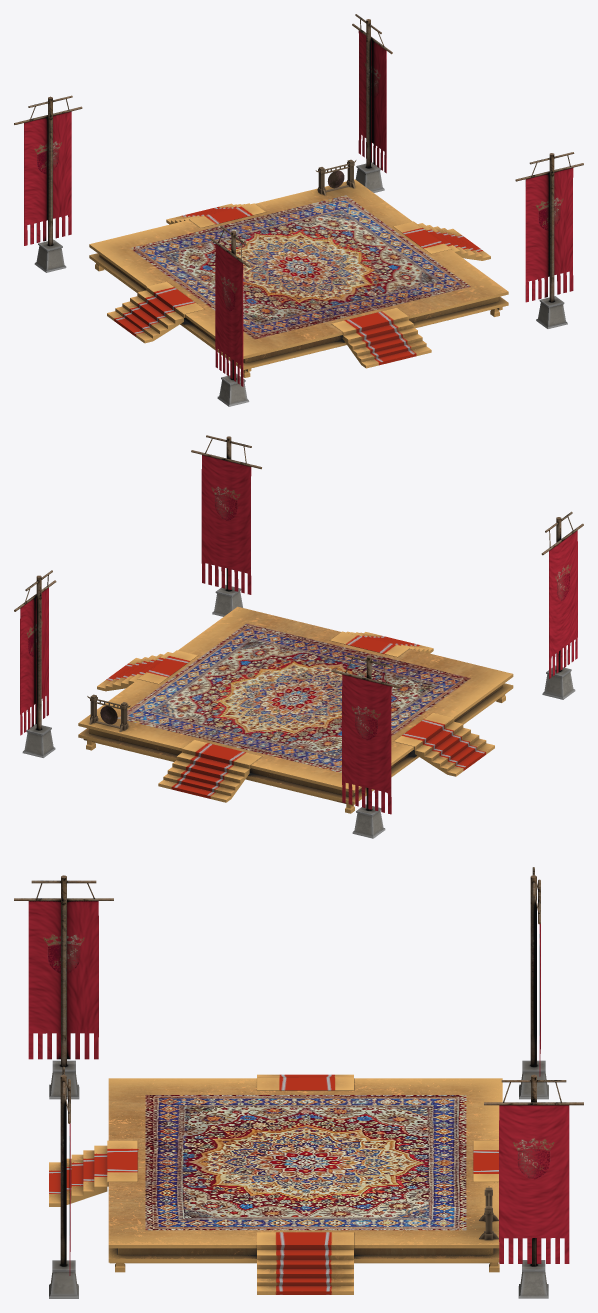
File: escenario.glb
The picture shows the model from 3 angles, top to bottom: view 1: azimuth 30°, elevation 25°; view 2: azimuth 150°, elevation 25°; view 3: azimuth 270°, elevation 25°; orthographic projection. The views are drawn at different scales.
Parts seen in each view (by area): view 1: pCube42, pPlane1 (×4), pCube14, pCube15, pCube40 (×4), pCylinder1 (×3); view 2: pCube42, pPlane1 (×4), pCube14, pCube15, pCube40 (×4), pCylinder1; view 3: pCube42, pPlane1 (×2), pCube14, pCube15, pCylinder1 (×3), pCube40 (×4), pCube7.
Boxes of the visible parts, x1,y1,x2,y2 form: pCube42: [89, 179, 508, 370]; pPlane1 (×4): [24, 30, 573, 386]; pCube14: [107, 221, 490, 343]; pCube15: [166, 203, 431, 368]; pCube40 (×4): [34, 162, 567, 406]; pCylinder1 (×3): [48, 19, 554, 302]; pCube42: [78, 606, 513, 804]; pPlane1 (×4): [20, 455, 577, 814]; pCube14: [97, 650, 494, 776]; pCube15: [158, 631, 433, 802]; pCube40 (×4): [22, 584, 575, 838]; pCylinder1: [36, 575, 41, 730]; pCube42: [108, 1078, 502, 1262]; pPlane1 (×2): [28, 901, 569, 1263]; pCube14: [257, 1074, 353, 1294]; pCube15: [49, 1140, 498, 1206]; pCylinder1 (×3): [60, 875, 536, 1266]; pCube40 (×4): [49, 1060, 548, 1298]; pCube7: [110, 1262, 491, 1263].
Size of the model in its own units: 0.3627 by 0.1514 by 0.3615.
Materials: 3 (3 with a texture image).
